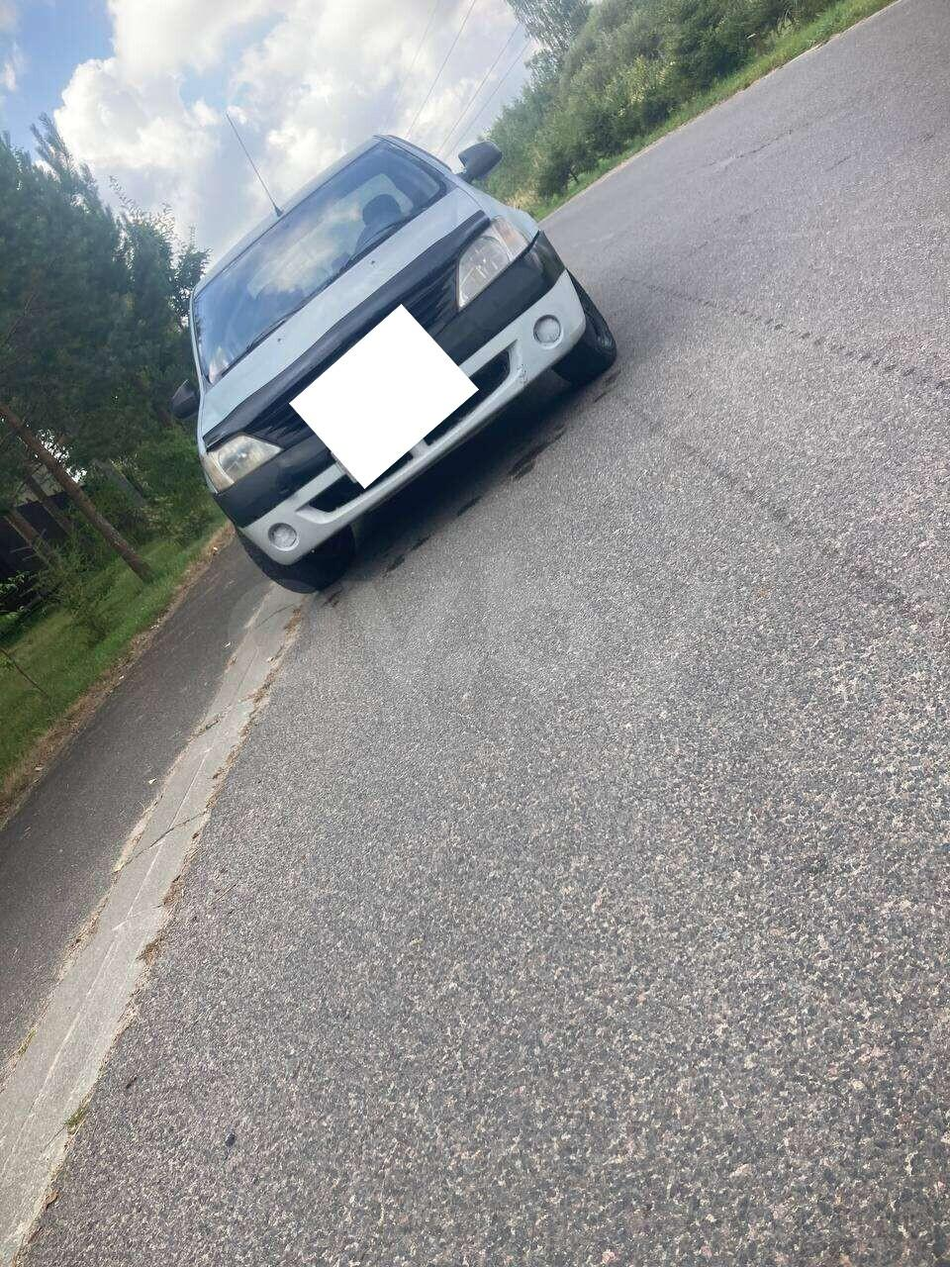Logan_2004-2009: (167, 135, 618, 592)
